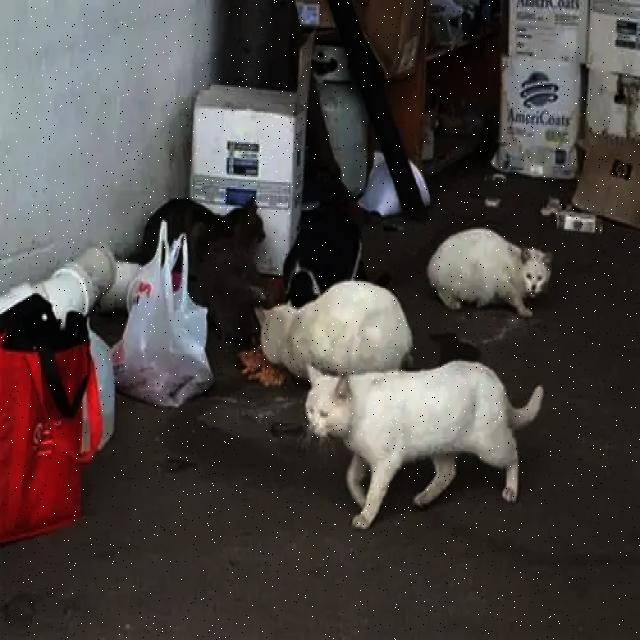cat: (305, 361, 544, 529), (139, 200, 266, 343), (256, 281, 412, 379), (428, 229, 552, 317), (284, 207, 369, 306)
